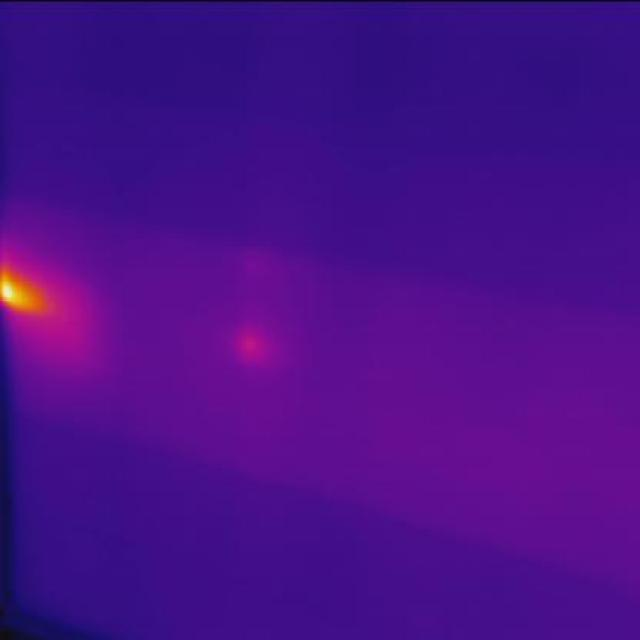hotspot: (1, 255, 82, 348)
